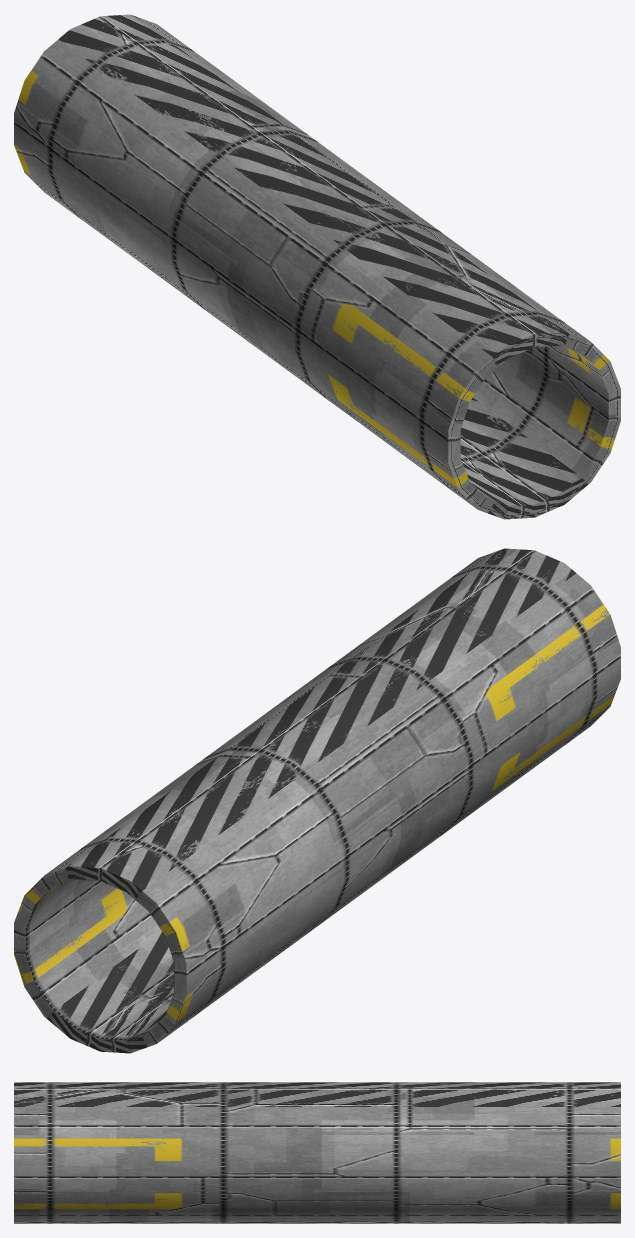
The model's file is TunnelTextureVersion.FBX.
3 views of the same model, one above another, from view 1: azimuth 30°, elevation 25°; view 2: azimuth 150°, elevation 25°; view 3: azimuth 270°, elevation 25° (orthographic). The views are drawn at different scales.
Visible parts, largest first — view 1: Tube001; view 2: Tube001; view 3: Tube001.
Part boxes in pixels (box(x1,y1,x2,y2)): Tube001: box(14, 14, 620, 519); Tube001: box(14, 548, 620, 1053); Tube001: box(14, 1082, 620, 1223).
Bounding box in the file's own units: 1751 × 1778 × 7620.
